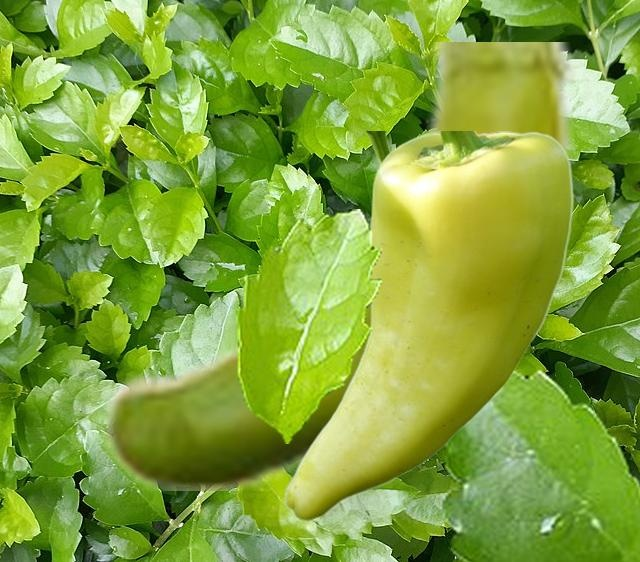green_chili: (97, 42, 579, 489), (283, 131, 573, 522)
